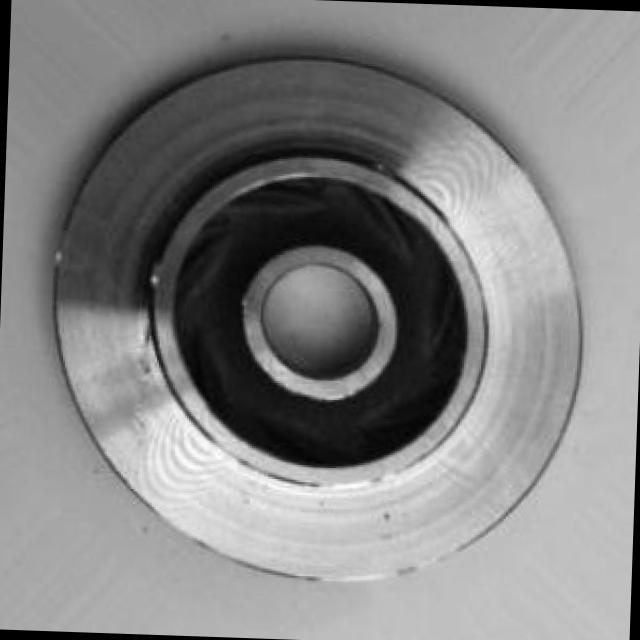Defect: (372, 503, 402, 528)
